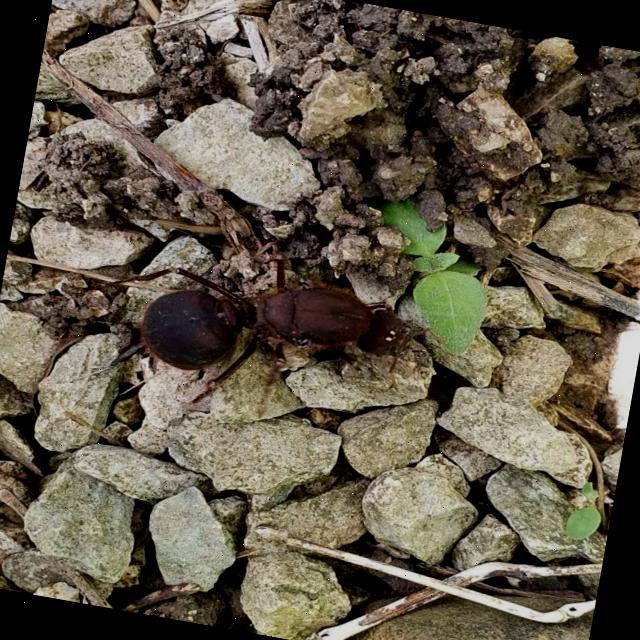Alive-Female-Dealate: (70, 212, 427, 442)
